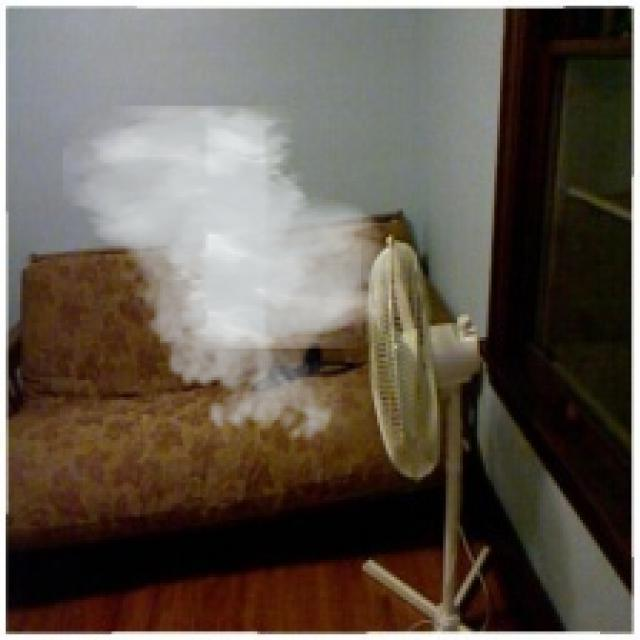Smoke: (62, 106, 408, 452)
